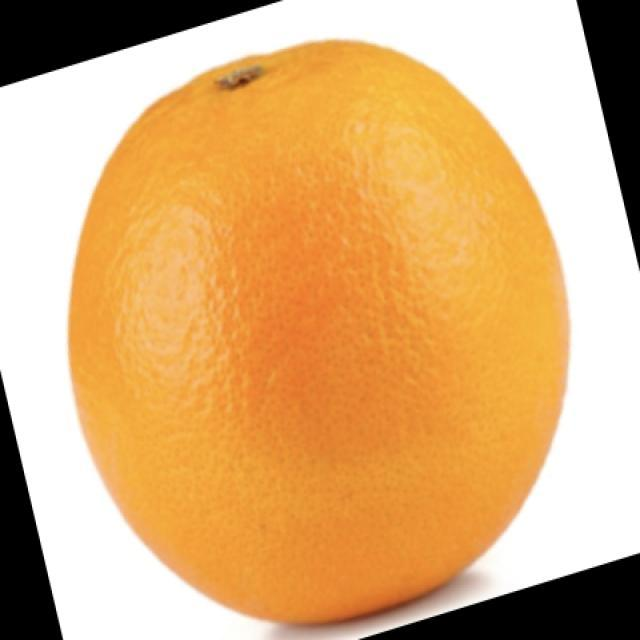matang: (69, 40, 568, 622)
